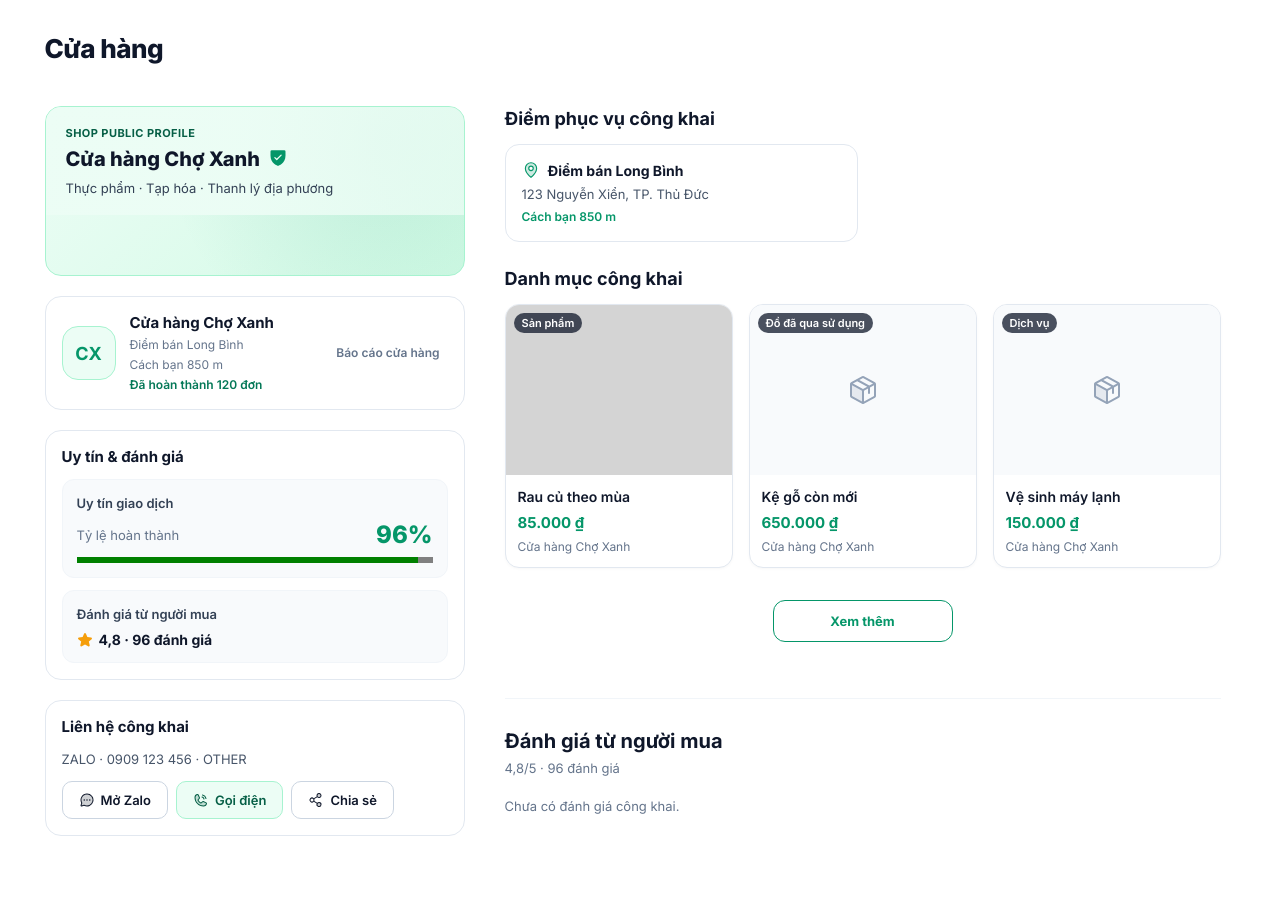
Scenario: PUB-009 Merchant profile › appends more catalog items seamlessly without losing previous items
Expected: the link "Bánh mì tươi" is not shown
Click the link "Xem thêm": click(862, 620) [772,600,952,642]
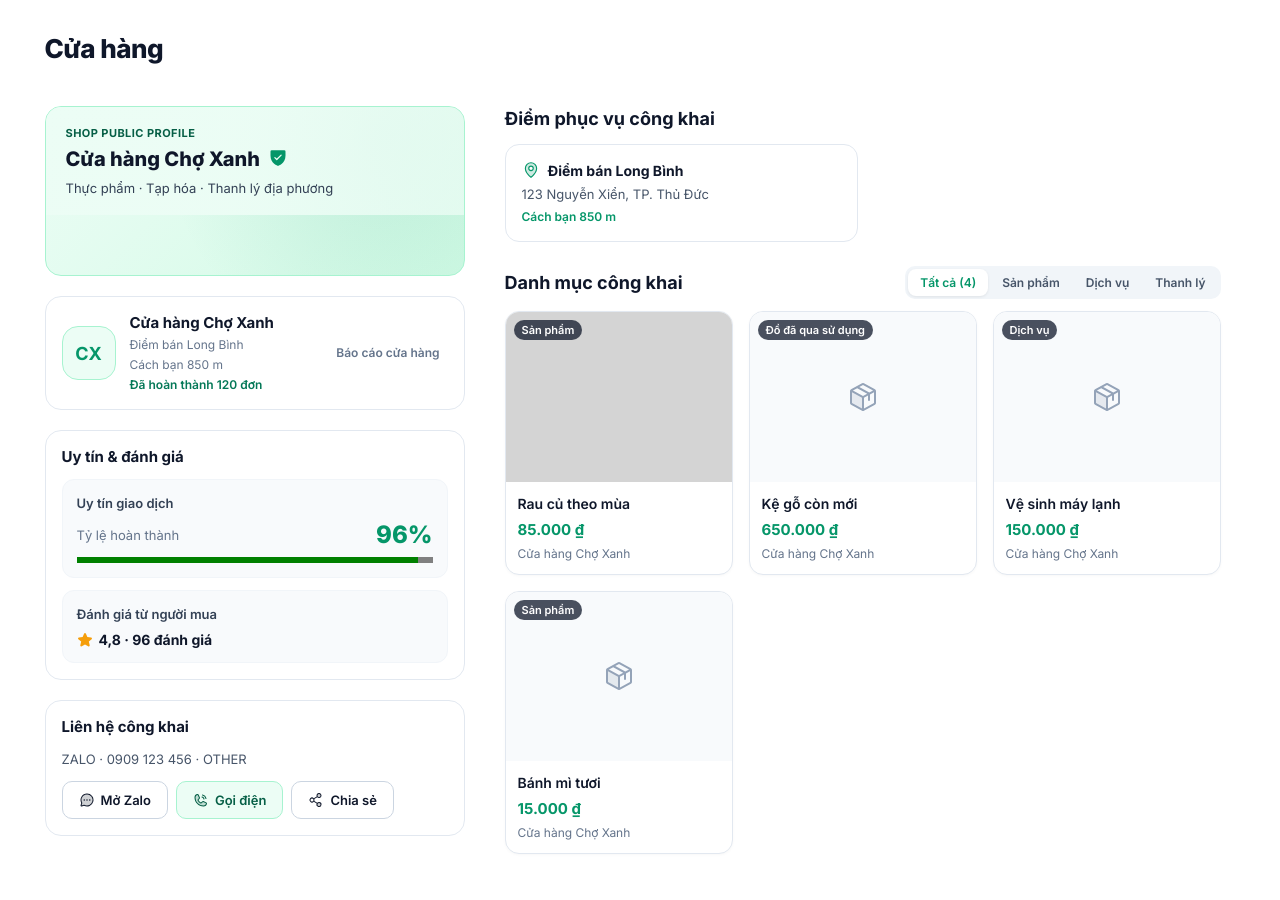
Expected: the link "Đồ đã qua sử dụng Kệ gỗ còn mới 650.000 ₫ Cửa hàng Chợ Xanh" is shown, [748,311,976,574]
Now the link "Sản phẩm Bánh mì tươi 15.000 ₫ Cửa hàng Chợ Xanh" is shown, box [504,590,732,854]
